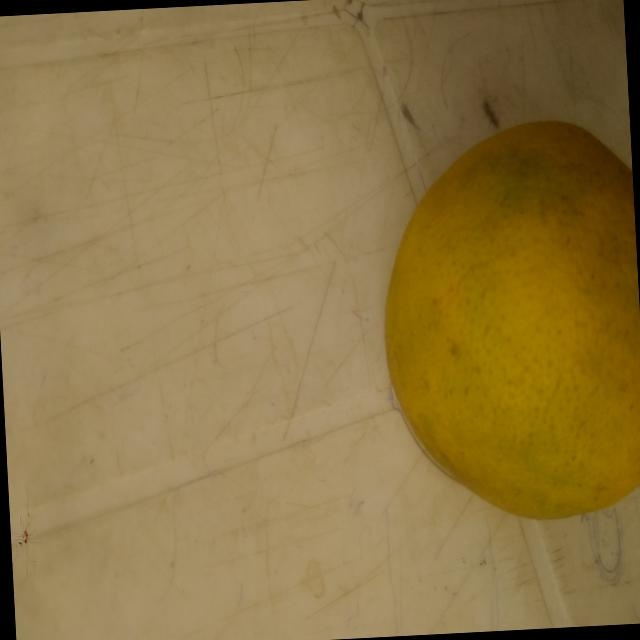agrume: (352, 61, 640, 592)
